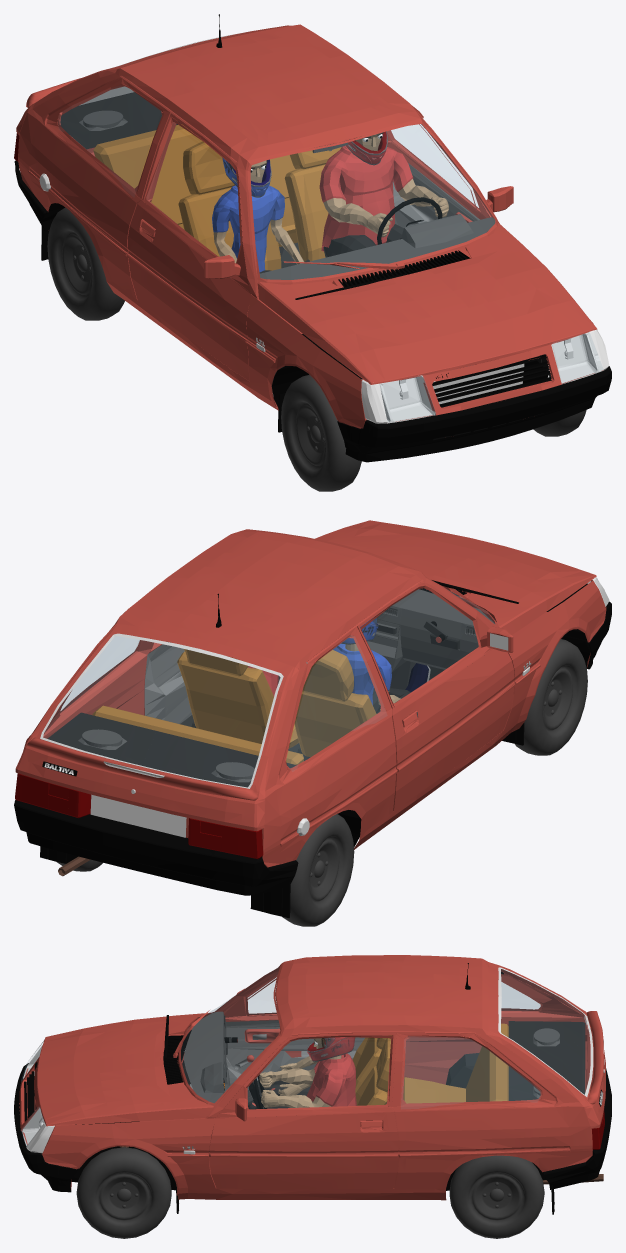
Rendered from car.glb.
3 renders of one model, top to bottom at view 1: azimuth 30°, elevation 25°; view 2: azimuth 150°, elevation 25°; view 3: azimuth 270°, elevation 25°, orthographic. The views are drawn at different scales.
Parts seen in each view (by area): view 1: chassis, bonnet_ok, salon, door_rf_ok, Casual2_Body (×2), bump_front_ok, Quad_Wheel.003, Quad_Wheel.002, Plane, per_fari, door_lf_ok, Boot (+5 smaller); view 2: chassis, salon, Boot, door_rf_ok, bonnet_ok, bump_rear_ok, Quad_Wheel.002, Quad_Wheel.003, fari_zad, door_lf_ok, brizgov, Casual2_Body (+1 smaller); view 3: chassis, door_lf_ok, bonnet_ok, salon, Quad_Wheel, Quad_Wheel.001, Boot, Casual2_Body (×2), door_rf_ok, bump_rear_ok, bump_front_ok, Plane (+3 smaller).
Part boxes in pixels (bbox=[...]): chassis: bbox=[18, 14, 603, 428]; bonnet_ok: bbox=[257, 223, 597, 384]; salon: bbox=[60, 92, 495, 391]; door_rf_ok: bbox=[126, 113, 251, 381]; Casual2_Body (×2): bbox=[212, 145, 448, 272]; bump_front_ok: bbox=[337, 366, 611, 462]; Quad_Wheel.003: bbox=[281, 374, 361, 491]; Quad_Wheel.002: bbox=[47, 207, 124, 320]; Plane: bbox=[423, 344, 561, 415]; per_fari: bbox=[361, 332, 603, 423]; door_lf_ok: bbox=[387, 118, 513, 232]; Boot: bbox=[16, 25, 291, 135]; chassis: bbox=[43, 529, 606, 867]; salon: bbox=[47, 589, 495, 787]; Boot: bbox=[15, 623, 299, 831]; door_rf_ok: bbox=[357, 582, 514, 811]; bonnet_ok: bbox=[315, 520, 596, 634]; bump_rear_ok: bbox=[14, 800, 298, 895]; Quad_Wheel.002: bbox=[282, 814, 354, 926]; Quad_Wheel.003: bbox=[515, 639, 587, 755]; fari_zad: bbox=[15, 773, 263, 859]; door_lf_ok: bbox=[144, 640, 192, 723]; brizgov: bbox=[40, 723, 524, 917]; Casual2_Body: bbox=[333, 643, 400, 705]; chassis: bbox=[19, 955, 592, 1200]; door_lf_ok: bbox=[209, 1033, 398, 1189]; bonnet_ok: bbox=[37, 1012, 213, 1126]; salon: bbox=[182, 1011, 585, 1151]; Quad_Wheel: bbox=[76, 1147, 171, 1238]; Quad_Wheel.001: bbox=[449, 1155, 544, 1238]; Boot: bbox=[486, 962, 605, 1128]; Casual2_Body (×2): bbox=[259, 1053, 356, 1107]; door_rf_ok: bbox=[223, 973, 364, 1085]; bump_rear_ok: bbox=[543, 1068, 611, 1189]; bump_front_ok: bbox=[14, 1063, 78, 1192]; Plane: bbox=[19, 1057, 39, 1131].
Size of what is drawn, in the model's own units: 1.93 by 1.71 by 4.04.
127 materials, 2 textured.
